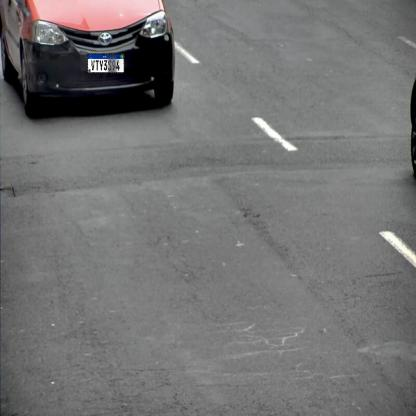PlacaM: (87, 54, 124, 74)
